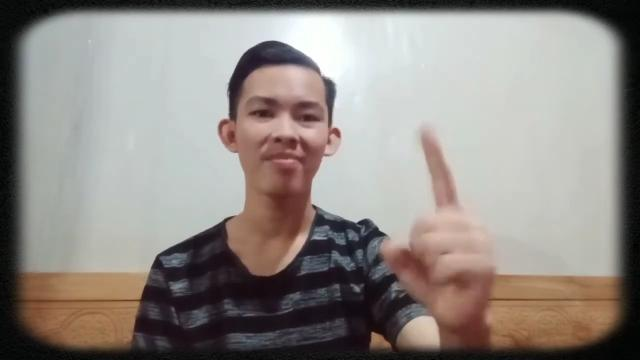X: (374, 124, 510, 328)
